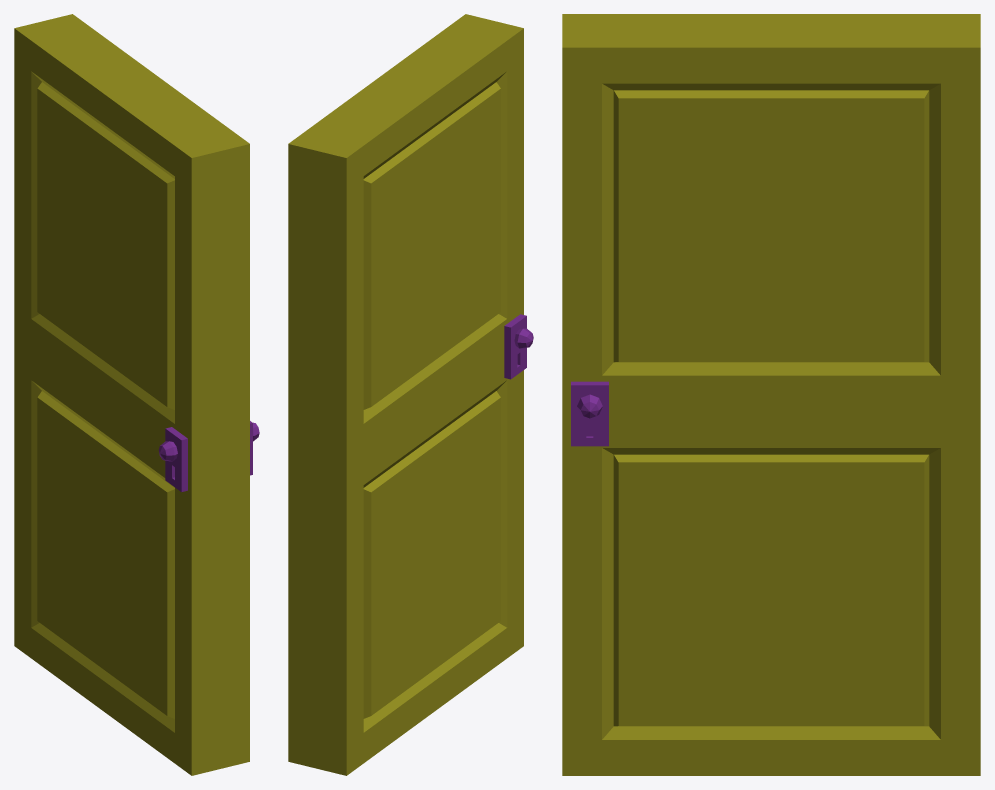
The model's file is door.fbx.
3 renders of one model, left to right at view 1: azimuth 30°, elevation 25°; view 2: azimuth 150°, elevation 25°; view 3: azimuth 270°, elevation 25°, orthographic. The views are drawn at different scales.
Visible parts, largest first — view 1: Cube.003; view 2: Cube.003; view 3: Cube.003.
Part boxes in pixels (x1,y1,x2,y2): Cube.003: (14,14,259,775); Cube.003: (288,14,533,775); Cube.003: (562,14,980,775).
Bounding box in the file's own units: 36.17 × 216 × 113.
